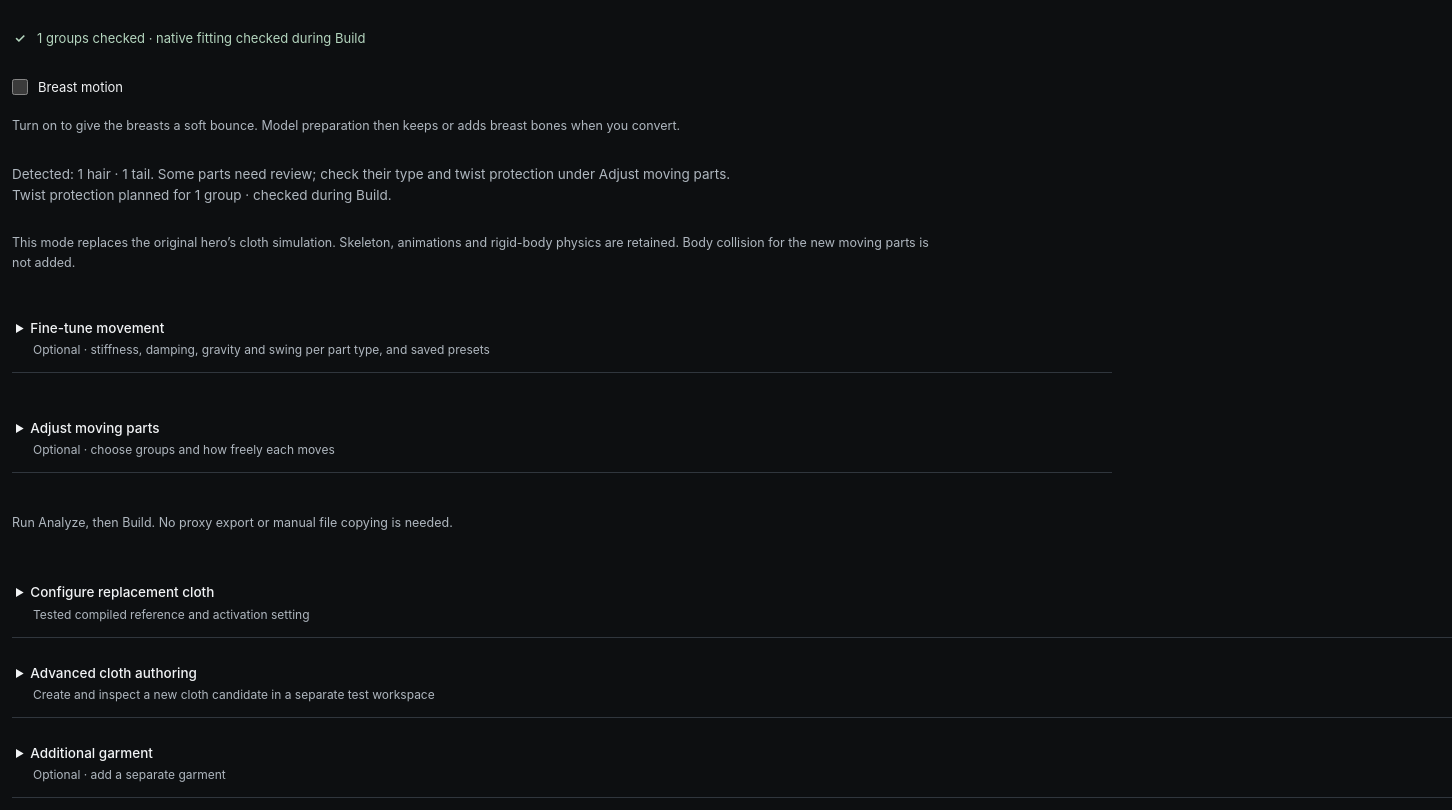
Test: Generated secondary motion › shows checked twist coverage and review reasons without treating stale analysis as current
(page scrolled)
Expected: the text "Twist protection planned for 1 group · checked during Build." is shown, x1=12 y1=186 x2=392 y2=202
Click the text "Adjust moving parts".
click(95, 428)  # box x1=30 y1=420 x2=160 y2=436
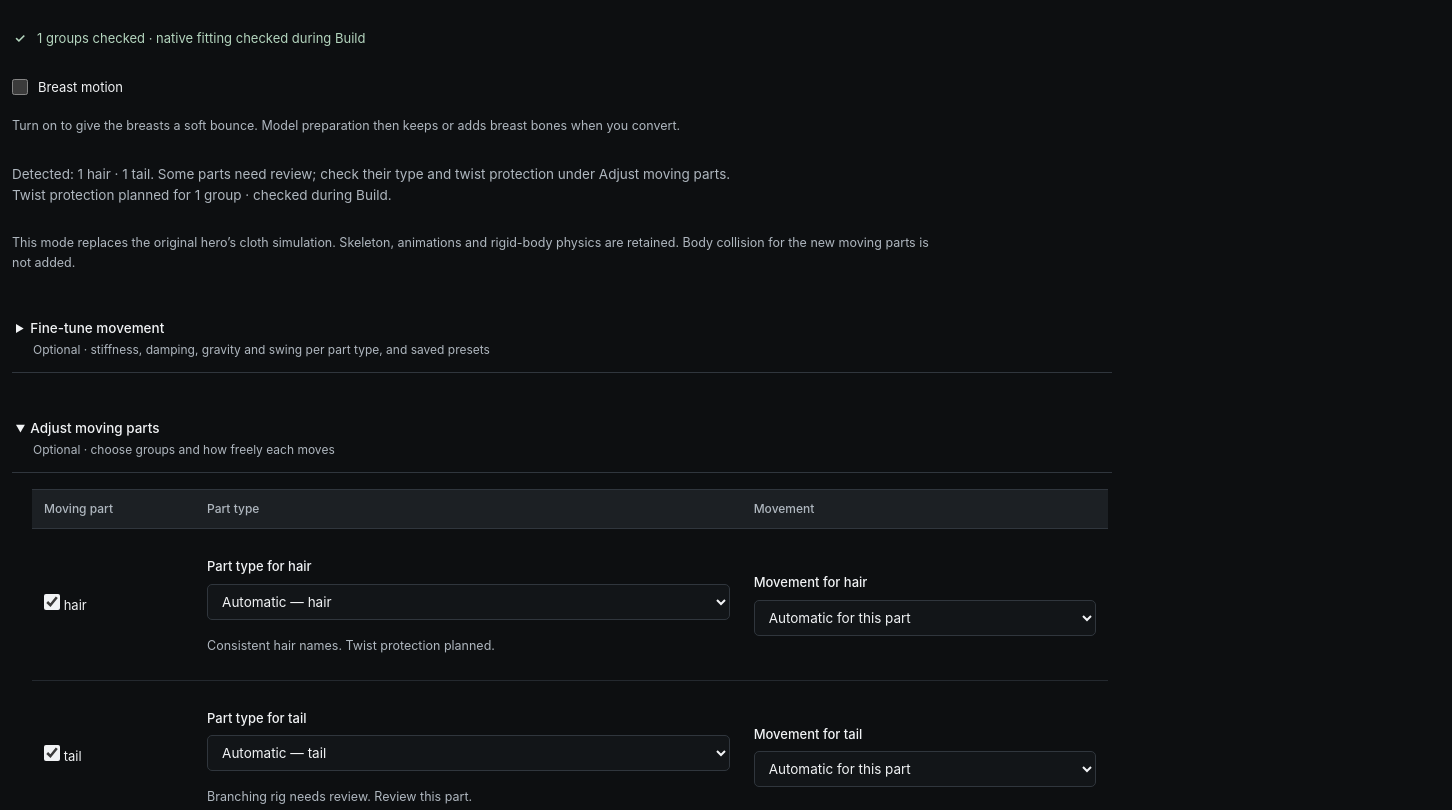
Now the text "Branching rig needs review. Review this part." is shown, box x1=207 y1=789 x2=472 y2=804
